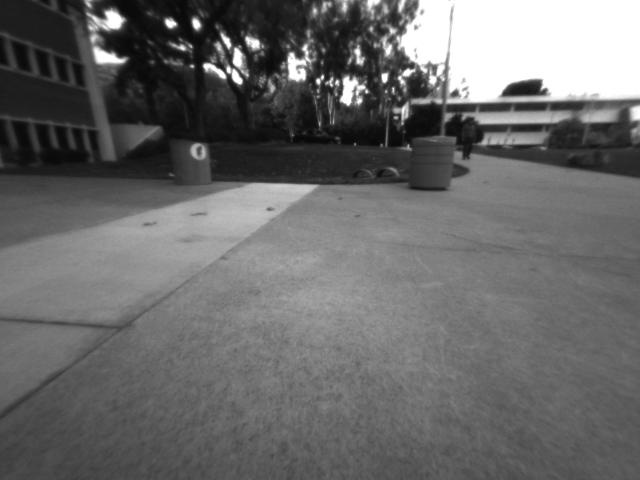trashcan: (399, 128, 460, 195), (161, 126, 220, 189)
